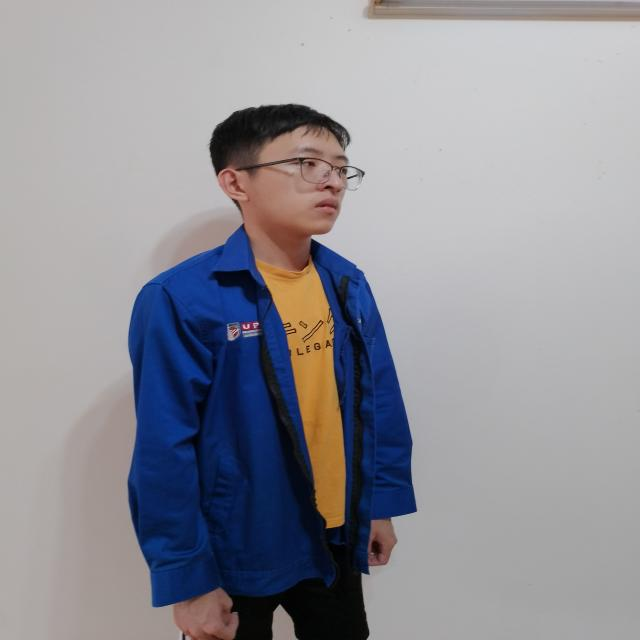person_with_labcoat: (129, 104, 415, 640)
